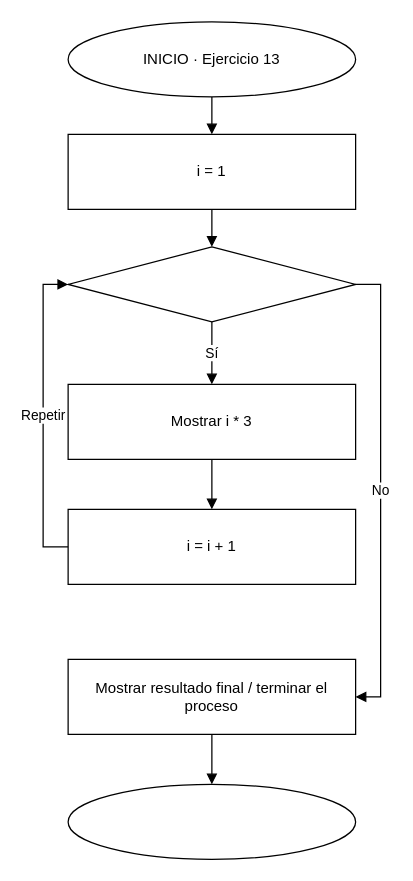
This 413x881 diagram has some shape labels left out. Each missing label, with the centre of its shape:
"FIN" belongs at (211,821).
"¿i <= 100?" belongs at (211,284).
